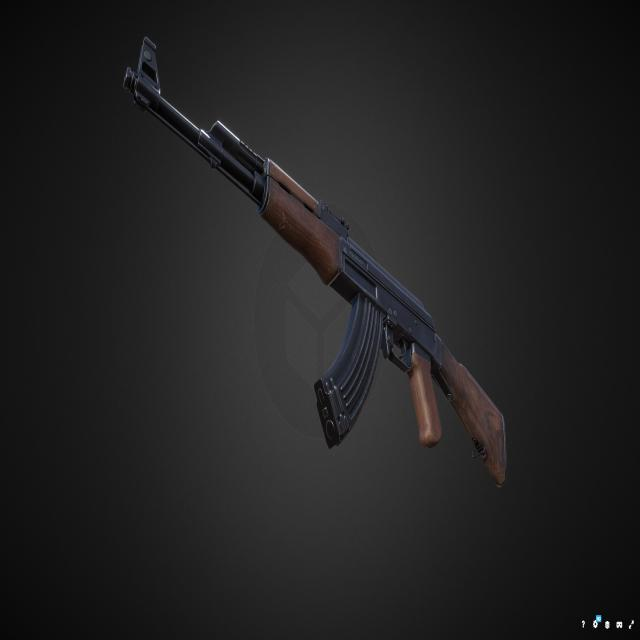Rifle: (124, 36, 509, 490)
